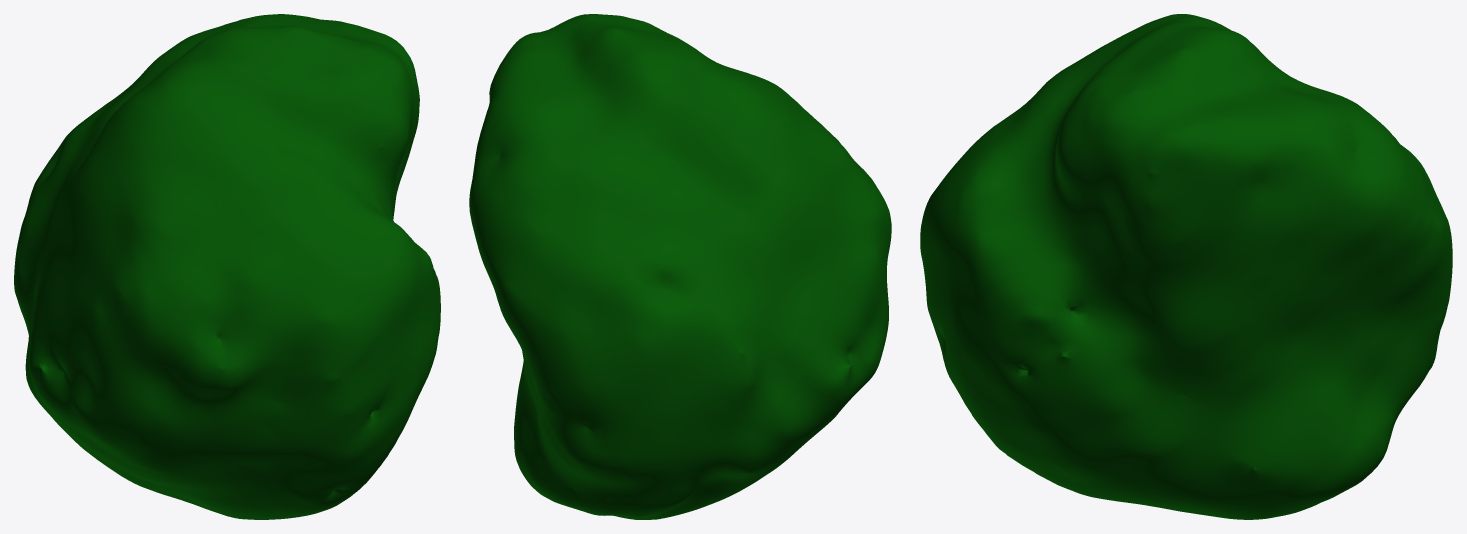
File: Lesion.obj
The picture shows the model from 3 angles, left to right: view 1: azimuth 30°, elevation 25°; view 2: azimuth 150°, elevation 25°; view 3: azimuth 270°, elevation 25°; orthographic projection. The views are drawn at different scales.
Parts seen in each view (by area): view 1: grp1; view 2: grp1; view 3: grp1.
Boxes of the visible parts, <box> form: grp1: <box>14,14,440,519</box>; grp1: <box>469,14,891,519</box>; grp1: <box>920,14,1452,519</box>.
Bounding box in the file's own units: 41.39 × 50.8 × 51.13.
